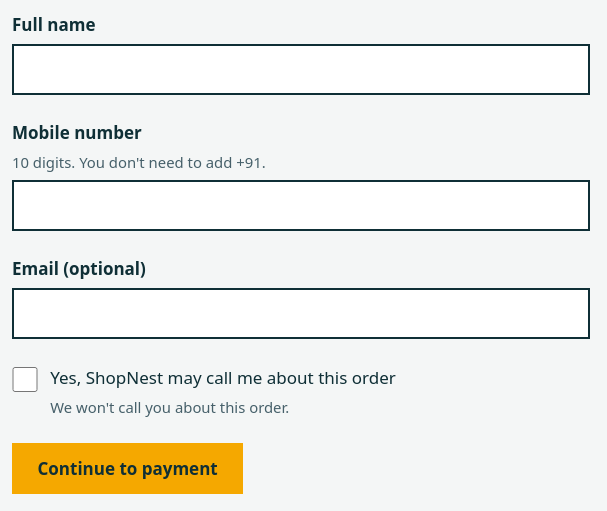
Test case: CheckoutForm › explains that nobody will call while the consent box is unticked
expect the text "We won't call you about this order." is shown: met, box x1=50 y1=397 x2=289 y2=417
Click the checkbox labelled "Yes, ShopNest may call me about this order": click(25, 380) x1=12 y1=367 x2=38 y2=392
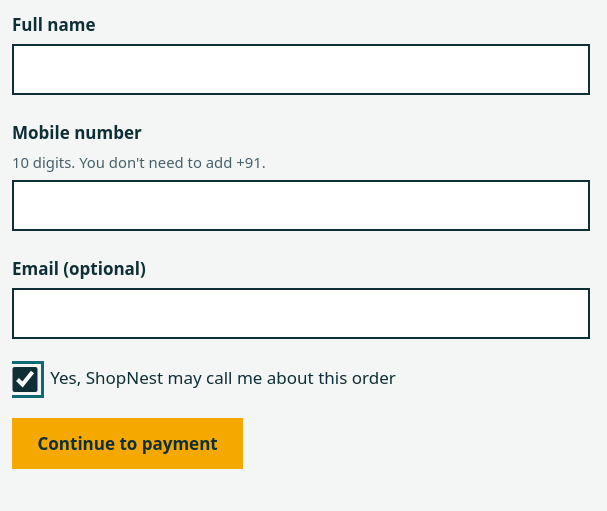
expect the text "We won't call you about this order." is gone: met
